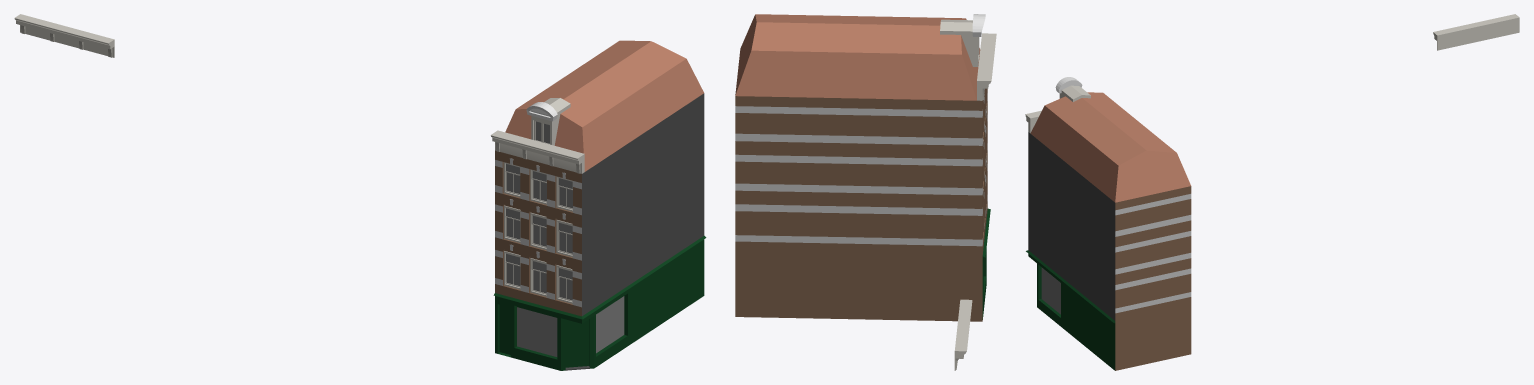
The model's file is Kattenburgerplein_8.fbx.
The picture shows the model from 3 angles, left to right: view 1: azimuth 30°, elevation 25°; view 2: azimuth 150°, elevation 25°; view 3: azimuth 270°, elevation 25°; orthographic projection. The views are drawn at different scales.
Visible parts, largest first — view 1: Kattenburgerplein_8_walls, Kattenburgerplein_8_roof, Kattenburgerplein_8_ground_floor, Kattenburgerplein_8, Kattenburgerplein_1_gutter, Kattenburgerplein_8_puibalk, Cube.008, window_frame_type4.007, window_frame_type4.006, window_frame_type4.008, window_frame_type4.004, window_frame_type4.003 (+2 smaller); view 2: Kattenburgerplein_8_walls, Kattenburgerplein_8_roof, Kattenburgerplein_8, Cube.008, Kattenburgerplein_1_gutter, Cube.009, Kattenburgerplein_8_ground_floor; view 3: Kattenburgerplein_8_walls, Kattenburgerplein_8_roof, Kattenburgerplein_8_ground_floor, Kattenburgerplein_1_gutter, Kattenburgerplein_8_puibalk.
Part boxes in pixels (left/top/right/bottom): Kattenburgerplein_8_walls: left=495, top=93, right=704, bottom=316; Kattenburgerplein_8_roof: left=505, top=40, right=703, bottom=171; Kattenburgerplein_8_ground_floor: left=495, top=243, right=704, bottom=370; Kattenburgerplein_8: left=490, top=130, right=584, bottom=173; Kattenburgerplein_1_gutter: left=14, top=14, right=114, bottom=57; Kattenburgerplein_8_puibalk: left=493, top=235, right=706, bottom=323; Cube.008: left=531, top=98, right=570, bottom=145; window_frame_type4.007: left=530, top=258, right=546, bottom=296; window_frame_type4.006: left=504, top=251, right=520, bottom=289; window_frame_type4.008: left=556, top=265, right=572, bottom=303; window_frame_type4.004: left=530, top=212, right=546, bottom=249; window_frame_type4.003: left=504, top=205, right=520, bottom=242; Kattenburgerplein_8_walls: left=735, top=88, right=987, bottom=321; Kattenburgerplein_8_roof: left=735, top=14, right=980, bottom=100; Kattenburgerplein_8: left=977, top=33, right=996, bottom=100; Cube.008: left=940, top=19, right=979, bottom=66; Kattenburgerplein_1_gutter: left=954, top=299, right=972, bottom=370; Cube.009: left=972, top=14, right=985, bottom=36; Kattenburgerplein_8_ground_floor: left=982, top=249, right=986, bottom=319; Kattenburgerplein_8_walls: left=1028, top=132, right=1191, bottom=370; Kattenburgerplein_8_roof: left=1030, top=92, right=1190, bottom=202; Kattenburgerplein_8_ground_floor: left=1037, top=263, right=1115, bottom=370; Kattenburgerplein_1_gutter: left=1433, top=14, right=1519, bottom=50; Kattenburgerplein_8_puibalk: left=1026, top=250, right=1115, bottom=326.
Bounding box in the file's own units: 2968 × 1630 × 3402.
